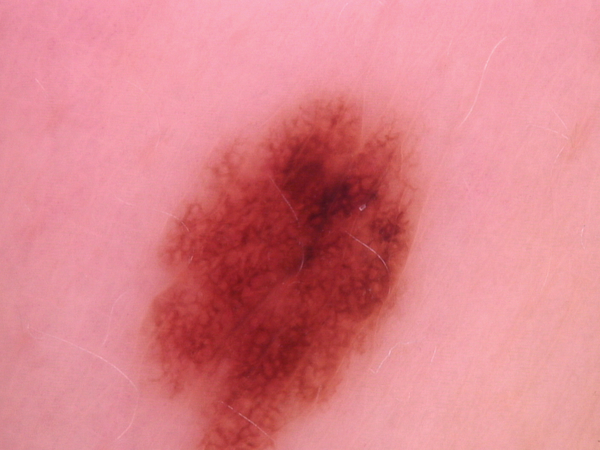Detected Lesion: (140, 84, 425, 450)
